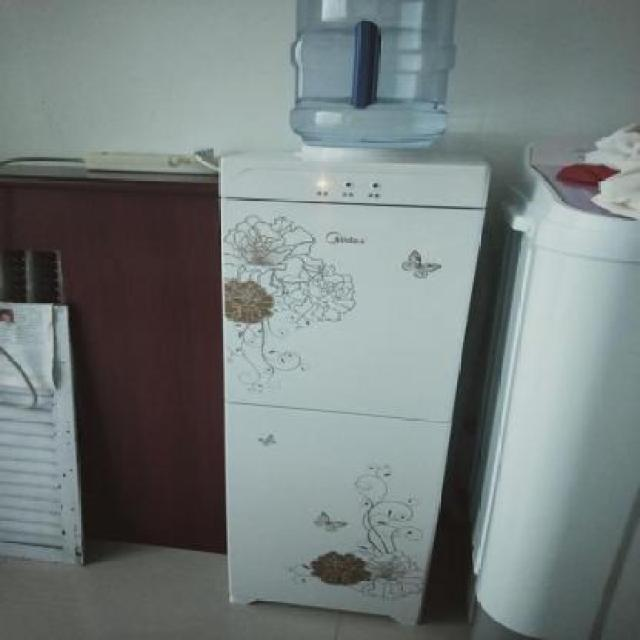cooler: (217, 0, 495, 628)
